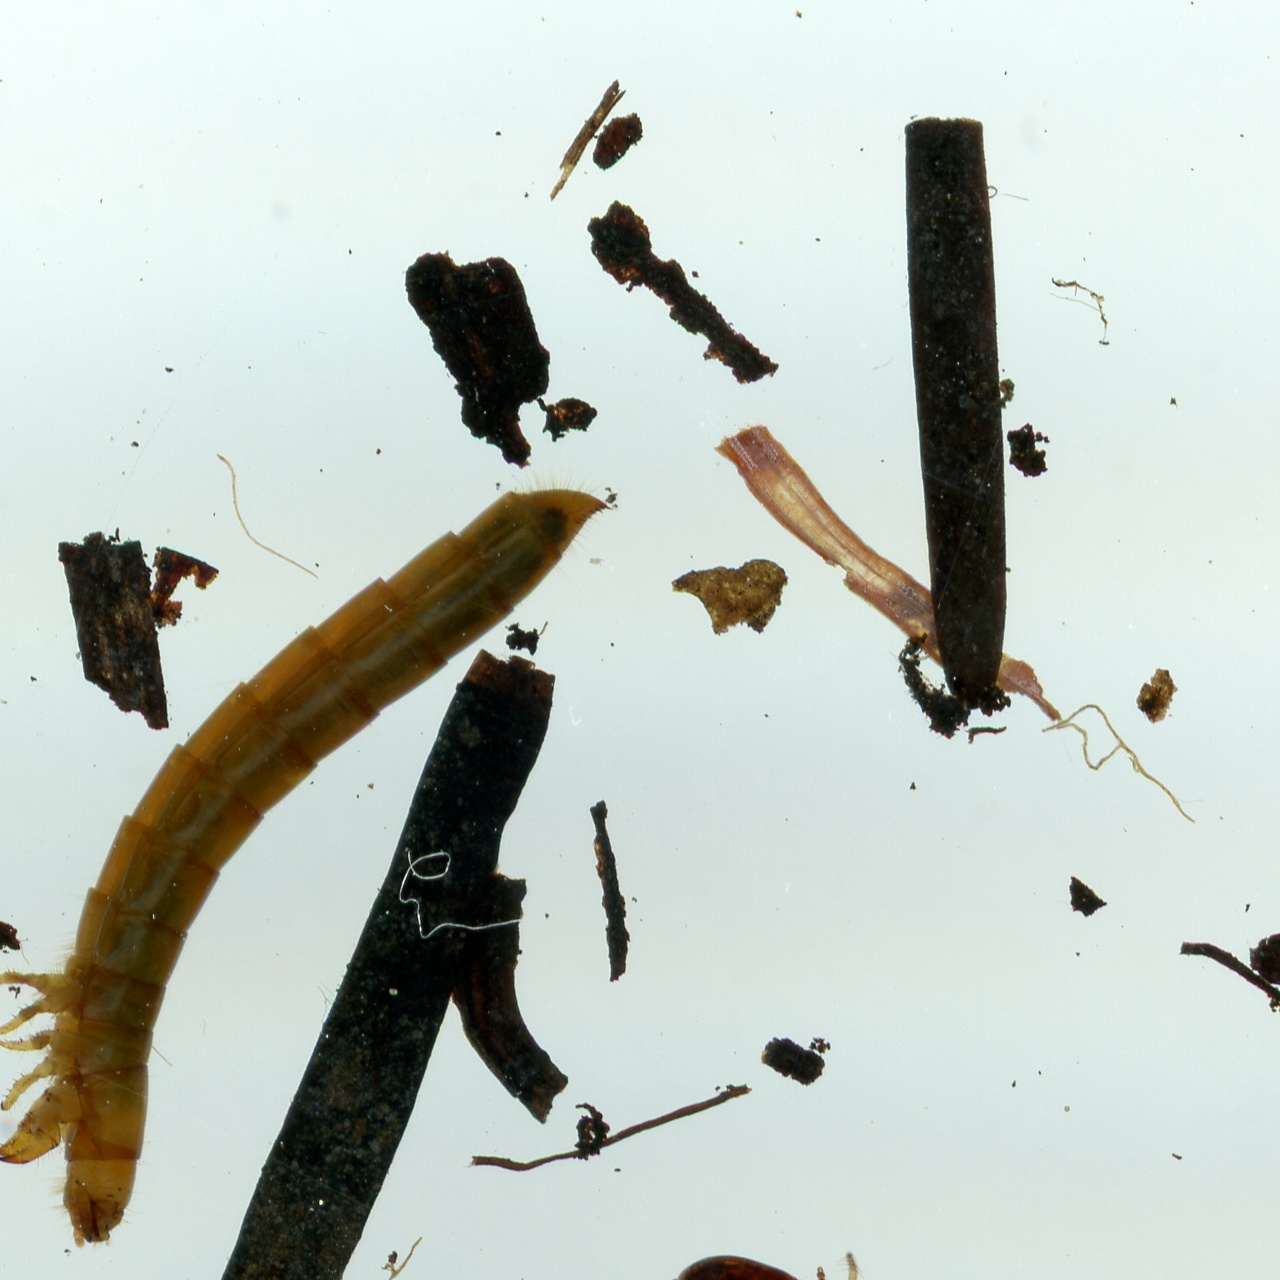arthropod: (0, 483, 611, 1249), (720, 1243, 950, 1280), (655, 1251, 841, 1280)
